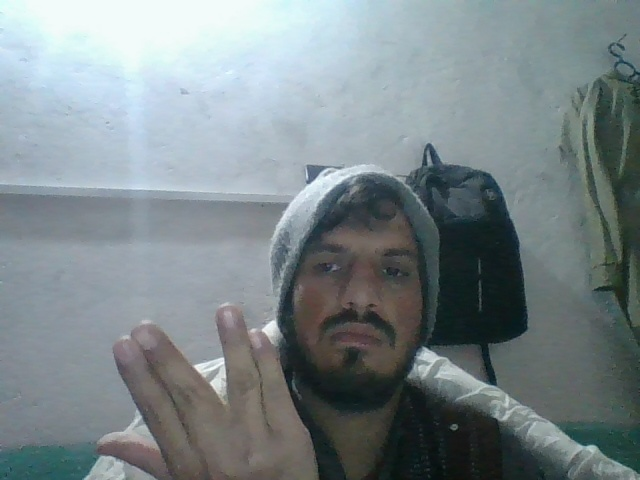LiveLong: (93, 301, 319, 479)
